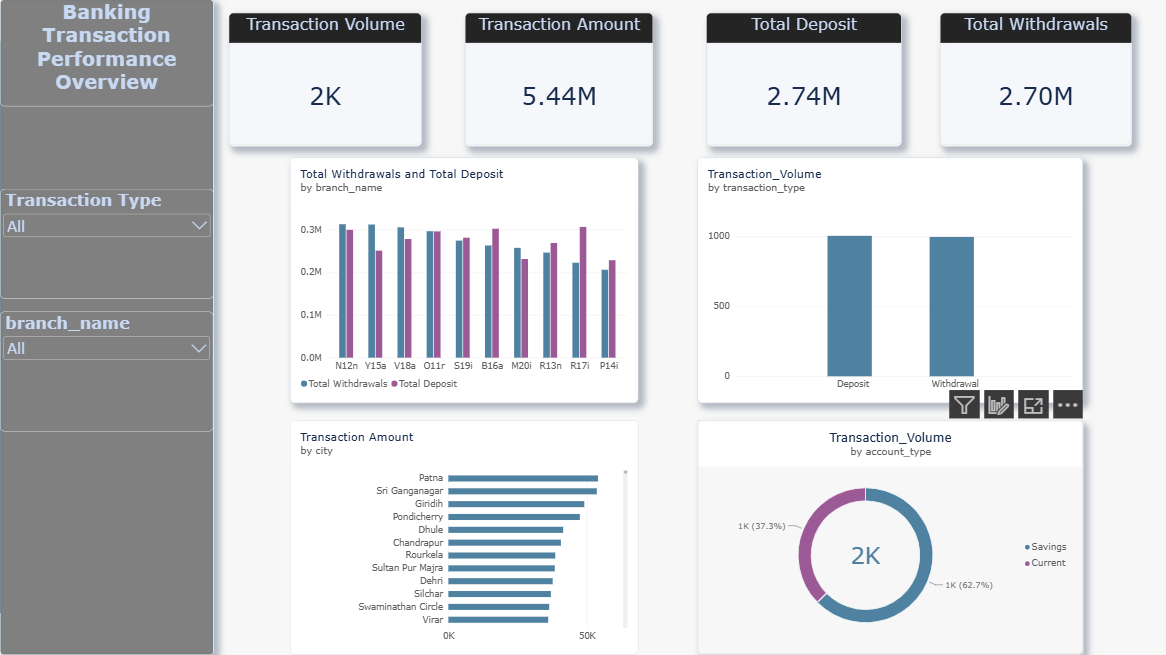

The dashboard page shown, as its layout file describes it:
{"tool":"powerbi","page":{"name":"Transaction Overview","canvas":[1920,1080],"ordinal":1},"visuals":[{"type":"shape","box":[0,0,352,1080.6],"z":0},{"type":"textbox","box":[0,0,352,177],"z":1000},{"type":"cardVisual","title":"Transaction Volume","fields":{"Data":["calculate measure.Transaction Volume"]},"box":[376.5,23.5,317.6,219.6],"z":2000},{"type":"cardVisual","title":"Transaction Amount","fields":{"Data":["calculate measure.Transaction Amount"]},"box":[764.7,23.5,309.8,219.6],"z":3000},{"type":"cardVisual","title":"Total Deposit","fields":{"Data":["calculate measure.Total Deposit"]},"box":[1162.7,23.5,321.6,219.6],"z":4000},{"type":"cardVisual","title":"Total Withdrawals","fields":{"Data":["calculate measure.Total Withdrawals"]},"box":[1547.1,23.5,315.7,219.6],"z":5000},{"type":"lineClusteredColumnComboChart","fields":{"Category":["transactionsdata.transaction_type"],"Y":["calculate measure.Transaction_Volume"]},"box":[1149,261.2,634.7,404.1],"z":6000},{"type":"lineClusteredColumnComboChart","fields":{"Category":["branches.branch_name"],"Y":["calculate measure.Total Withdrawals","calculate measure.Total Deposit"]},"box":[477.6,261.2,573.5,404.1],"z":7000},{"type":"donutChart","fields":{"Category":["accountsdata.account_type"],"Y":["calculate measure.Transaction_Volume"]},"box":[1149,693.9,634.7,385.7],"z":8000},{"type":"slicer","fields":{"Values":["transactionsdata.transaction_type"]},"box":[0,312.9,352,181.1],"z":9000},{"type":"clusteredBarChart","fields":{"Category":["updated_customersdata.city"],"Y":["calculate measure.Transaction Amount"]},"box":[477.6,693.9,573.5,385.7],"z":10000},{"type":"slicer","fields":{"Values":["branches.branch_name"]},"box":[0,514.3,351,198],"z":10001}]}

Visuals, with their boxes in screenshot pixels (x1, y1, x2, y2), scaled from the page's 1920x1080 canvas onto the 1166x655 screenshot:
shape: x1=0, y1=0, x2=214, y2=654
textbox: x1=0, y1=0, x2=214, y2=107
"Transaction Volume" cardVisual: x1=229, y1=14, x2=422, y2=147
"Transaction Amount" cardVisual: x1=464, y1=14, x2=653, y2=147
"Total Deposit" cardVisual: x1=706, y1=14, x2=901, y2=147
"Total Withdrawals" cardVisual: x1=940, y1=14, x2=1131, y2=147
lineClusteredColumnComboChart - transactionsdata.transaction_type x calculate measure.Transaction_Volume: x1=698, y1=158, x2=1083, y2=403
lineClusteredColumnComboChart - branches.branch_name x calculate measure.Total Withdrawals: x1=290, y1=158, x2=638, y2=403
donutChart - accountsdata.account_type x calculate measure.Transaction_Volume: x1=698, y1=421, x2=1083, y2=654
slicer - transactionsdata.transaction_type: x1=0, y1=190, x2=214, y2=300
clusteredBarChart - updated_customersdata.city x calculate measure.Transaction Amount: x1=290, y1=421, x2=638, y2=654
slicer - branches.branch_name: x1=0, y1=312, x2=213, y2=432
